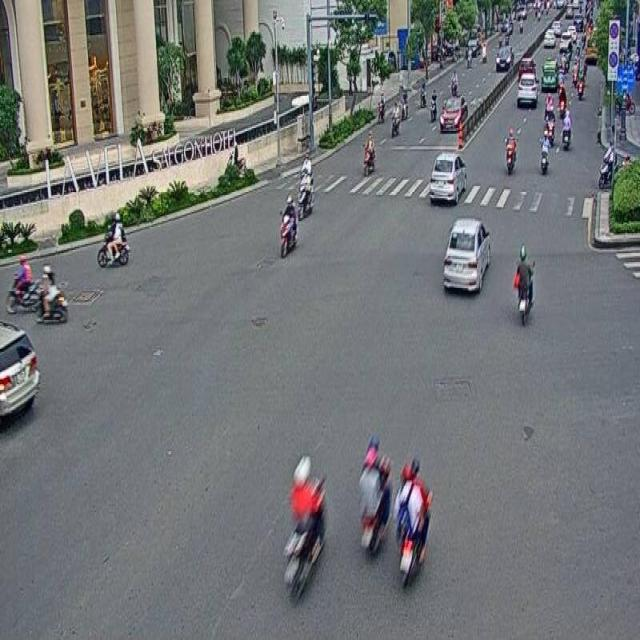car: (0, 323, 39, 418), (444, 216, 491, 292), (430, 151, 466, 204)
motorcycle: (96, 212, 130, 268), (514, 245, 535, 326), (278, 194, 298, 259), (296, 166, 314, 220)
